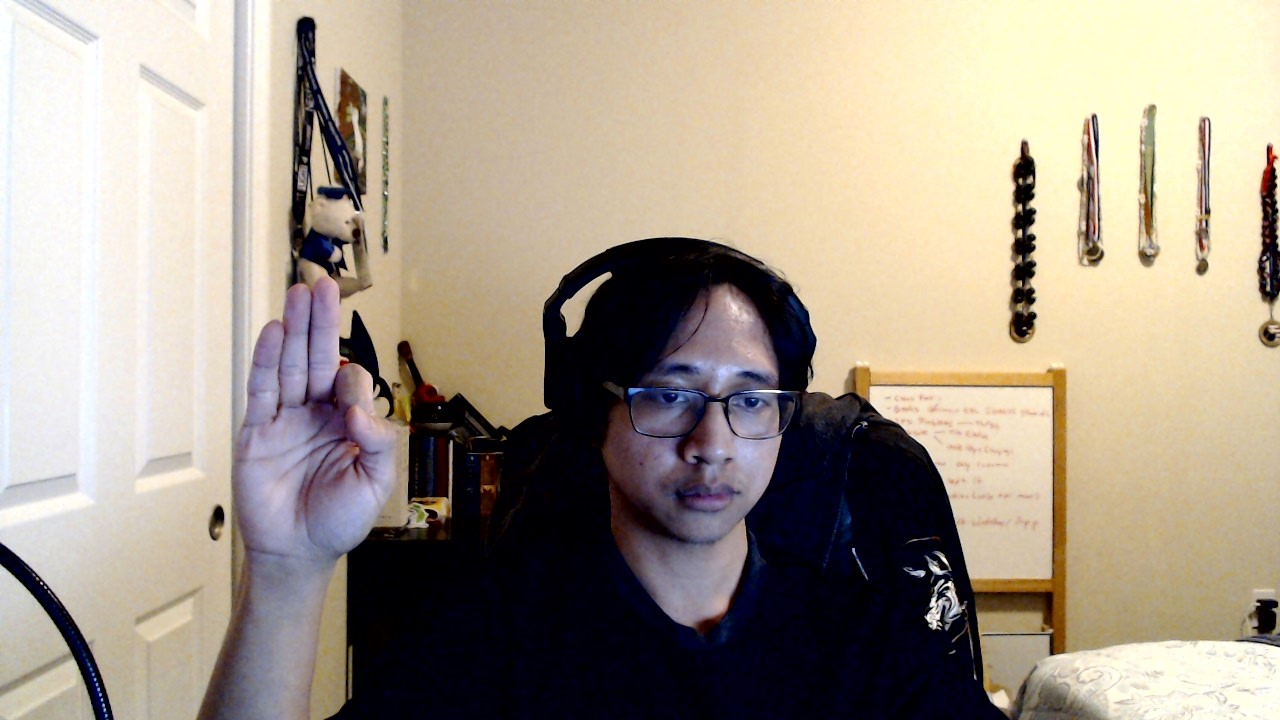f: (230, 275, 398, 569)
